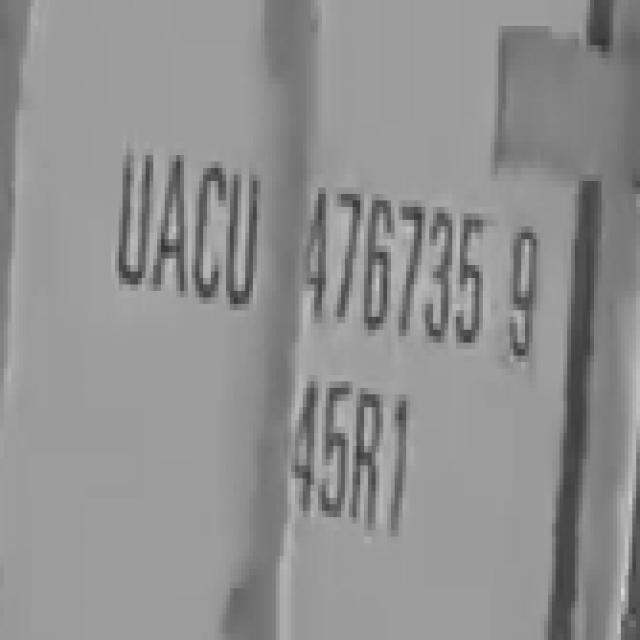dv: (502, 217, 548, 372)
owner: (104, 112, 267, 325)
serial: (304, 164, 489, 366)
size: (286, 374, 420, 558)
